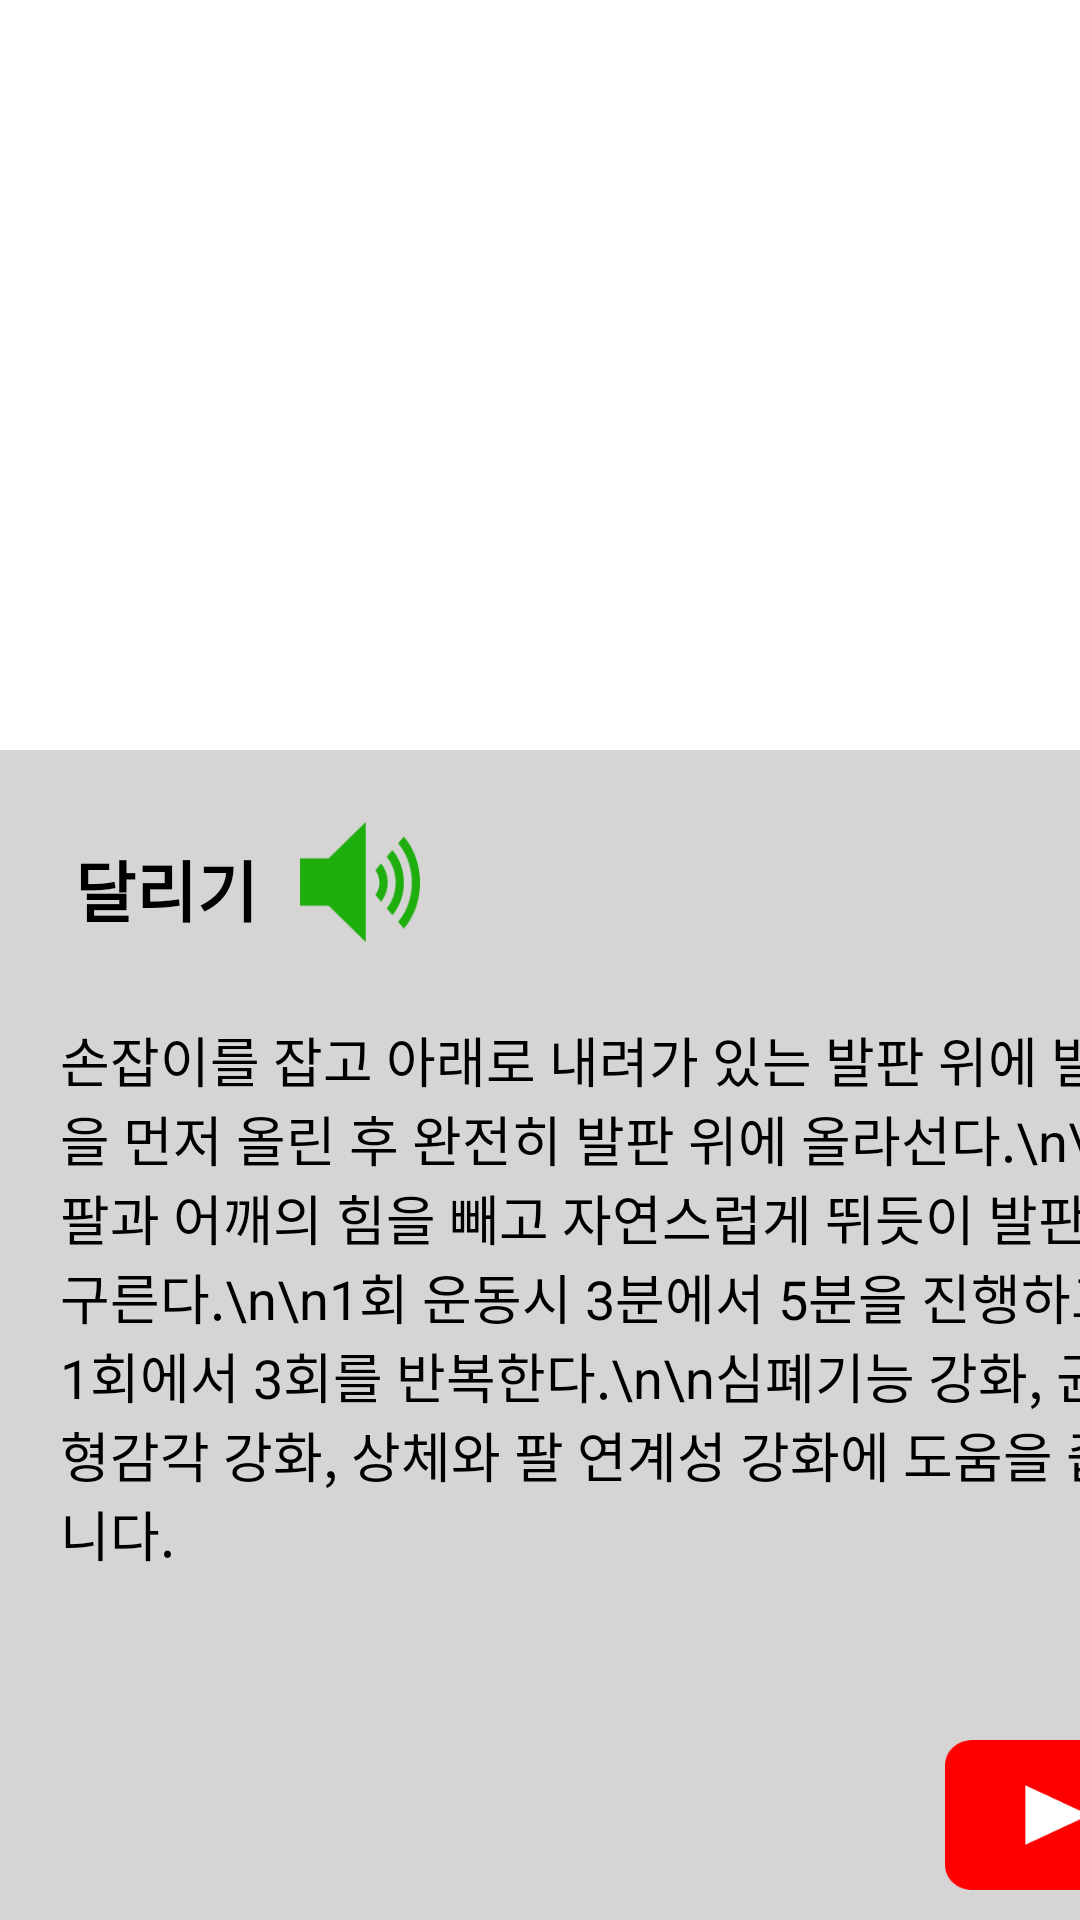

Icons on this 1080 x 1920 Android screen, each with the point to tap as (x=x, y=y):
sound: (x=360, y=882)
